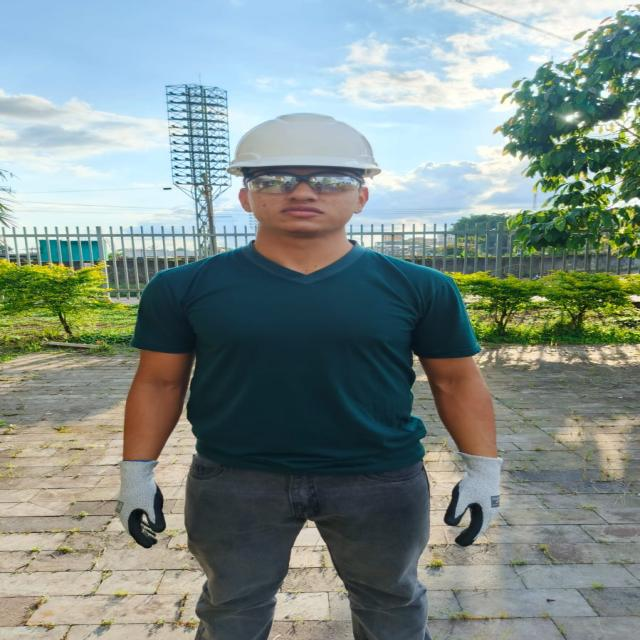gloves: (444, 453, 502, 546), (116, 461, 165, 548)
helmet: (227, 113, 380, 179)
protective_glasses: (243, 171, 364, 193)
